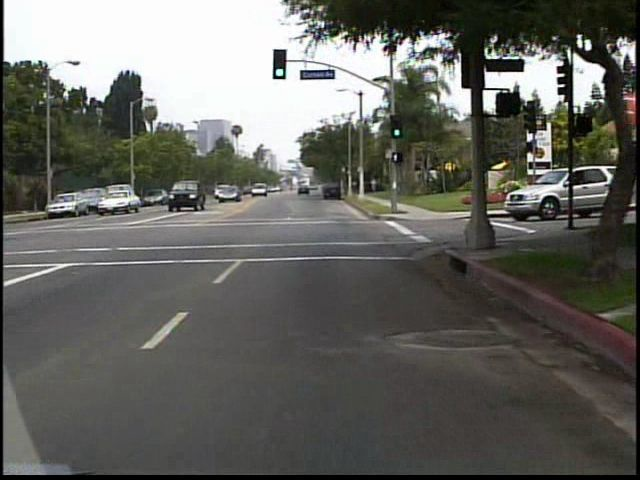person: (362, 175, 371, 199), (371, 175, 379, 195)
